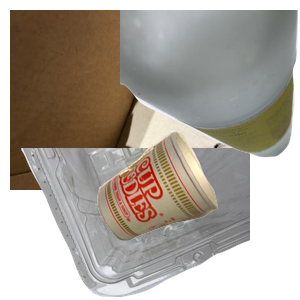cardboard: (10, 10, 250, 190)
glass: (120, 10, 300, 160)
plastic: (19, 148, 259, 300)
trash: (95, 129, 300, 300)
